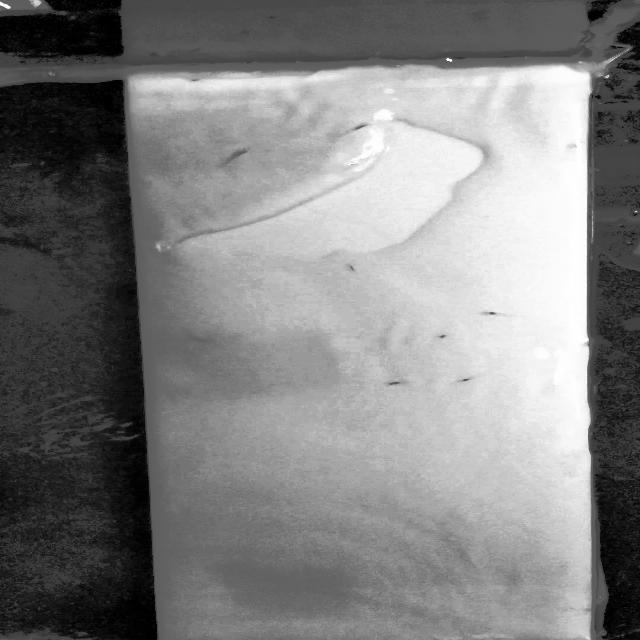shrimp: (467, 305, 506, 321), (220, 145, 254, 163), (449, 370, 483, 388), (377, 374, 410, 390)
